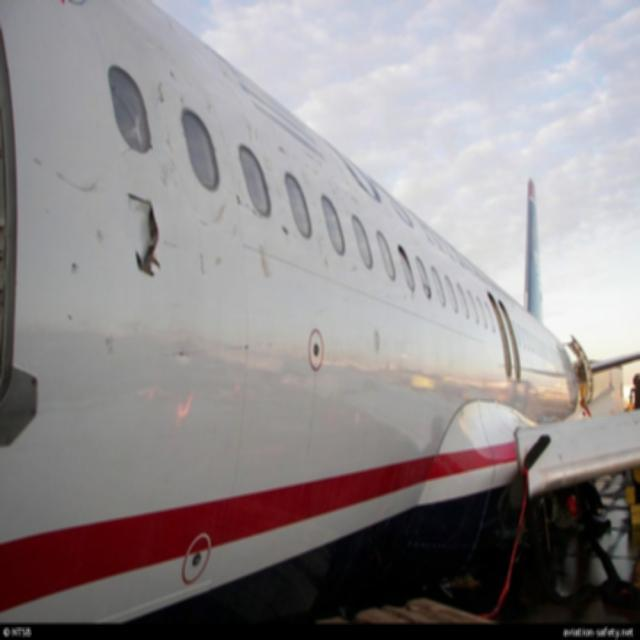crack: (121, 190, 167, 277)
